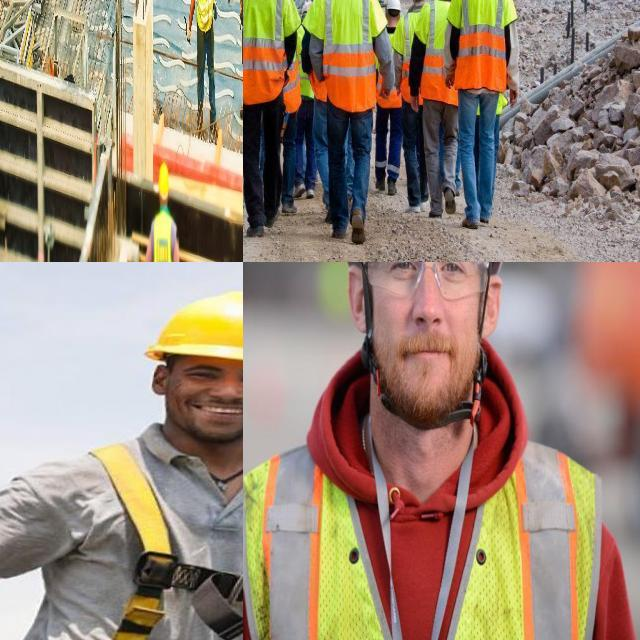Harness: (91, 444, 243, 640)
face_nomask: (360, 262, 498, 414)
glasses: (355, 262, 495, 300)
hand_glove: (184, 15, 191, 48)
head_helmet: (158, 168, 172, 200), (385, 0, 400, 13)
person: (243, 262, 640, 640), (454, 0, 519, 227), (324, 0, 380, 251), (243, 0, 293, 238), (413, 0, 458, 221), (375, 0, 405, 199), (295, 0, 318, 200), (147, 150, 185, 262), (192, 0, 220, 122)
shoes: (350, 204, 369, 248), (243, 213, 265, 241), (263, 202, 279, 230), (387, 178, 399, 195)
vest: (243, 426, 598, 640), (319, 0, 380, 109), (448, 0, 511, 93), (243, 0, 288, 96), (419, 0, 456, 106), (398, 12, 423, 105), (152, 213, 178, 262), (196, 0, 215, 27)
